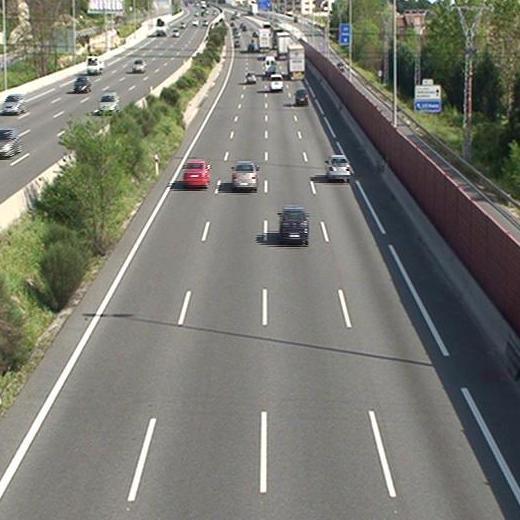car: (279, 208, 307, 242), (183, 159, 210, 187), (231, 163, 258, 190), (325, 156, 350, 180), (295, 89, 309, 105), (269, 75, 282, 92), (246, 74, 256, 85)
truck: (287, 44, 305, 80), (276, 32, 291, 60), (259, 28, 273, 53)
van: (264, 56, 276, 74)
